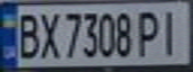0: (97, 9, 118, 58)
3: (78, 8, 100, 59)
7: (60, 8, 81, 60)
8: (115, 8, 136, 59)
B: (12, 9, 42, 60)
I: (157, 6, 187, 57)
P: (136, 7, 163, 57)
X: (36, 8, 60, 60)
